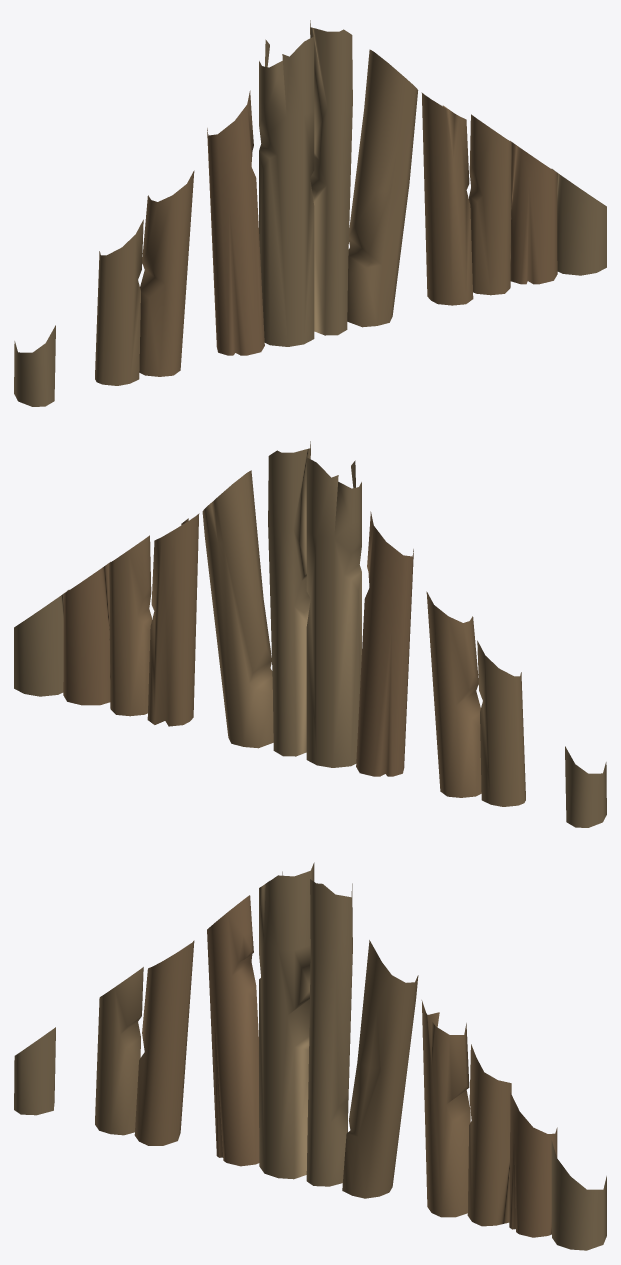
The model's file is rpgpp_av_roof_end_01_6x3_wall_04a.gltf.
The picture shows the model from 3 angles, top to bottom: view 1: azimuth 30°, elevation 25°; view 2: azimuth 150°, elevation 25°; view 3: azimuth 330°, elevation 25°; orthographic projection.
Parts seen in each view (by area): view 1: rpgpp_av_roof_end_01_6x3_wall_04a; view 2: rpgpp_av_roof_end_01_6x3_wall_04a; view 3: rpgpp_av_roof_end_01_6x3_wall_04a.
Boxes of the visible parts, x1,y1,x2,y2 form: rpgpp_av_roof_end_01_6x3_wall_04a: [14, 20, 606, 406]; rpgpp_av_roof_end_01_6x3_wall_04a: [14, 441, 606, 827]; rpgpp_av_roof_end_01_6x3_wall_04a: [14, 862, 606, 1250].
Bounding box in the file's own units: 0.06 × 0.0297 × 0.00463.
Materials: 1 (1 with a texture image).
